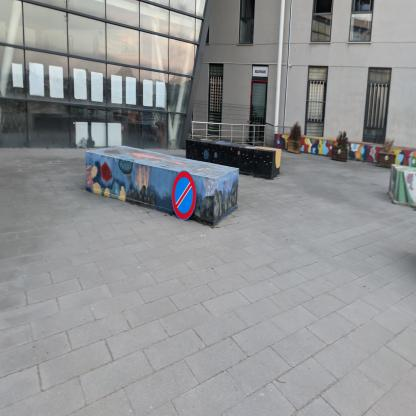No Waiting: (172, 171, 198, 221)
